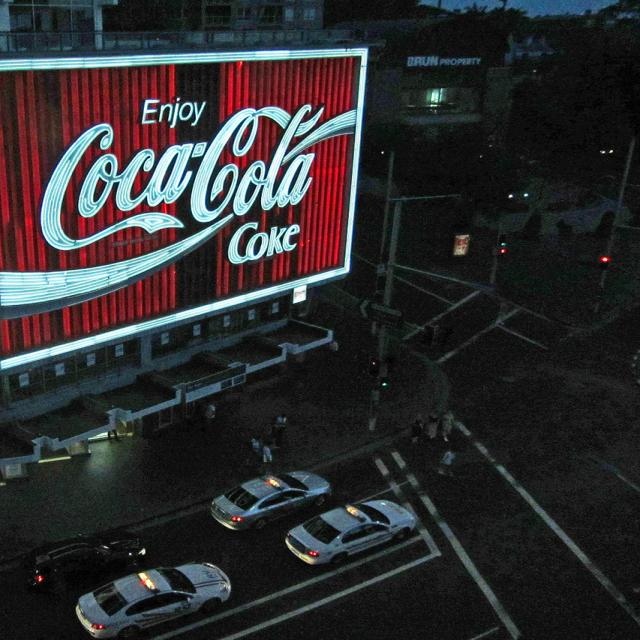car: (284, 498, 419, 568), (207, 469, 331, 528)
